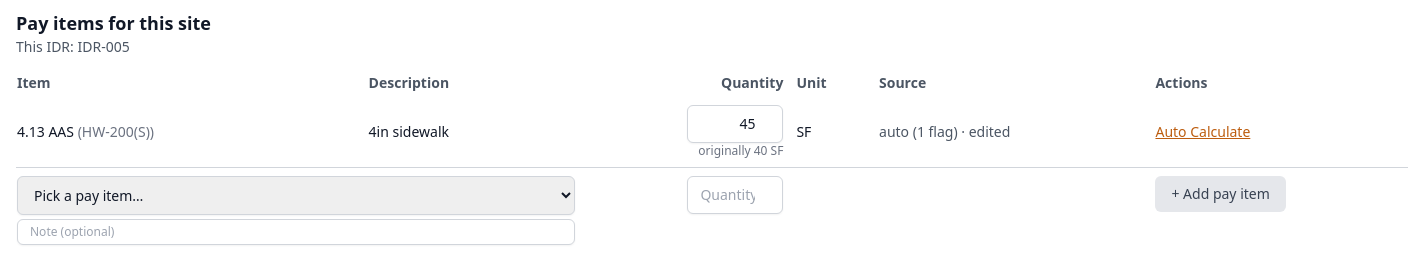
Test: SitePayItemsPanel › Auto Calculate drops the override and re-reads the flags (Slice X.1)
Expected: the number field named "Auto quantity of 4.13 AAS" holds "45", x1=687 y1=105 x2=783 y2=143
Click the button "Auto Calculate".
click(1203, 132)  # box x1=1156 y1=122 x2=1250 y2=142
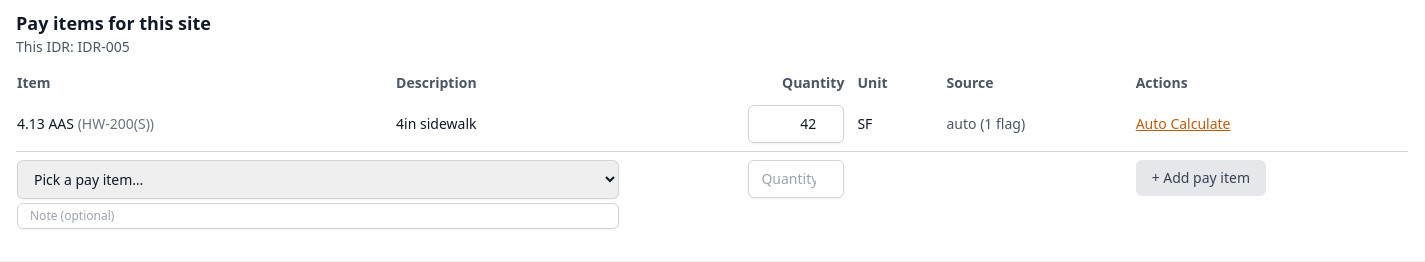
Now the number field named "Auto quantity of 4.13 AAS" holds "42", box x1=748 y1=105 x2=844 y2=143
Now the text "· edited" is gone
